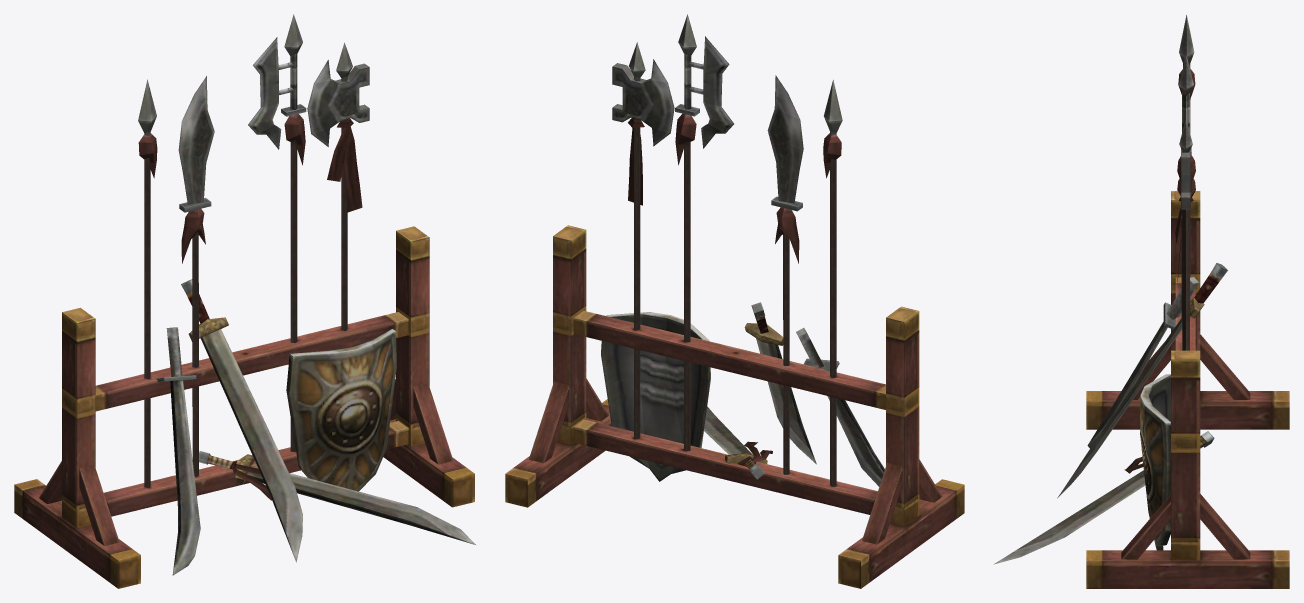
Rendered from GZ_Xsc_wuqijia_01_D.FBX.
3 renders of one model, left to right at view 1: azimuth 30°, elevation 25°; view 2: azimuth 150°, elevation 25°; view 3: azimuth 270°, elevation 25°, orthographic. The views are drawn at different scales.
Visible parts, largest first — view 1: GZ_Xsc_wuqijia_01_D; view 2: GZ_Xsc_wuqijia_01_D; view 3: GZ_Xsc_wuqijia_01_D.
Boxes of the visible parts, x1,y1,x2,y2 form: GZ_Xsc_wuqijia_01_D: (14, 14, 475, 588); GZ_Xsc_wuqijia_01_D: (505, 14, 964, 588); GZ_Xsc_wuqijia_01_D: (994, 15, 1289, 588).
Bounding box in the file's own units: 3.9 × 5.09 × 2.87.
